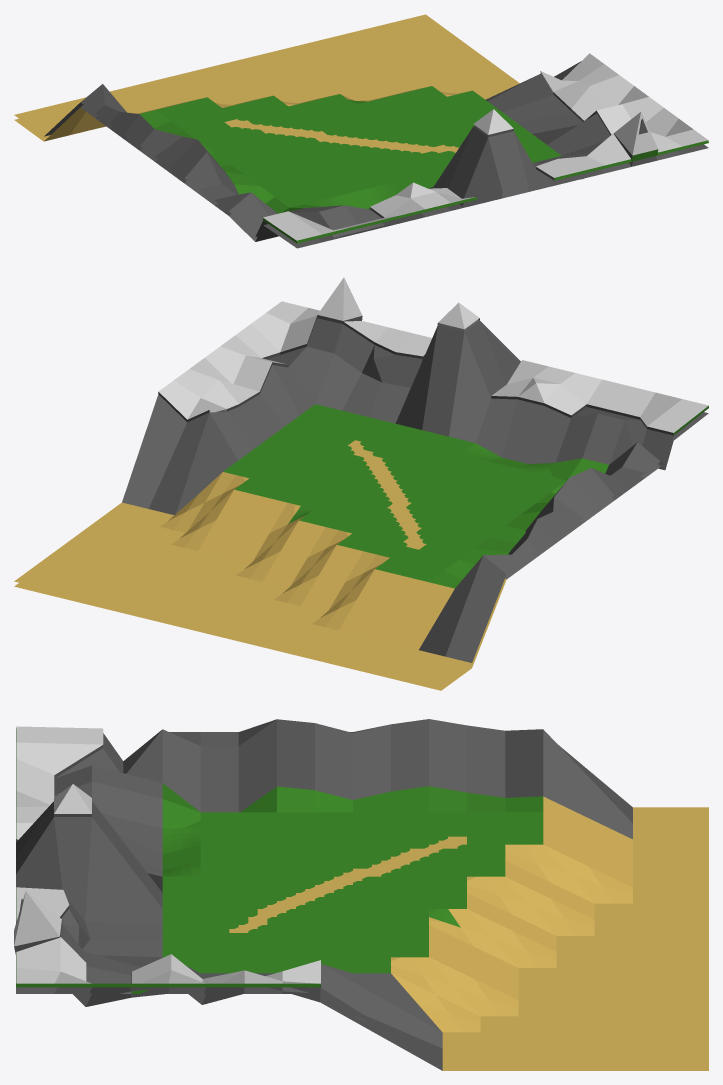
The model's file is Base_Land.fbx.
3 views of the same model, one above another, from view 1: azimuth 30°, elevation 25°; view 2: azimuth 150°, elevation 25°; view 3: azimuth 270°, elevation 25° (orthographic). The views are drawn at different scales.
Parts seen in each view (by area): view 1: Plane.001, Plane, Plane.002; view 2: Plane.001, Plane, Plane.002; view 3: Plane.001, Plane, Plane.002.
Boxes of the visible parts, box(x1,y1,x2,y2) form: Plane.001: box(14, 14, 647, 236); Plane: box(263, 53, 708, 243); Plane.002: box(14, 105, 708, 248); Plane.001: box(14, 318, 673, 685); Plane: box(158, 277, 708, 435); Plane.002: box(14, 412, 708, 690); Plane.001: box(16, 719, 708, 1064); Plane: box(14, 726, 320, 987); Plane.002: box(16, 881, 708, 1070).
Bounding box in the file's own units: 1645 × 504 × 1822.
